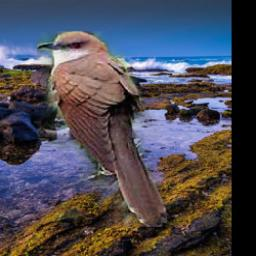Cuckoo: (38, 32, 168, 228)
